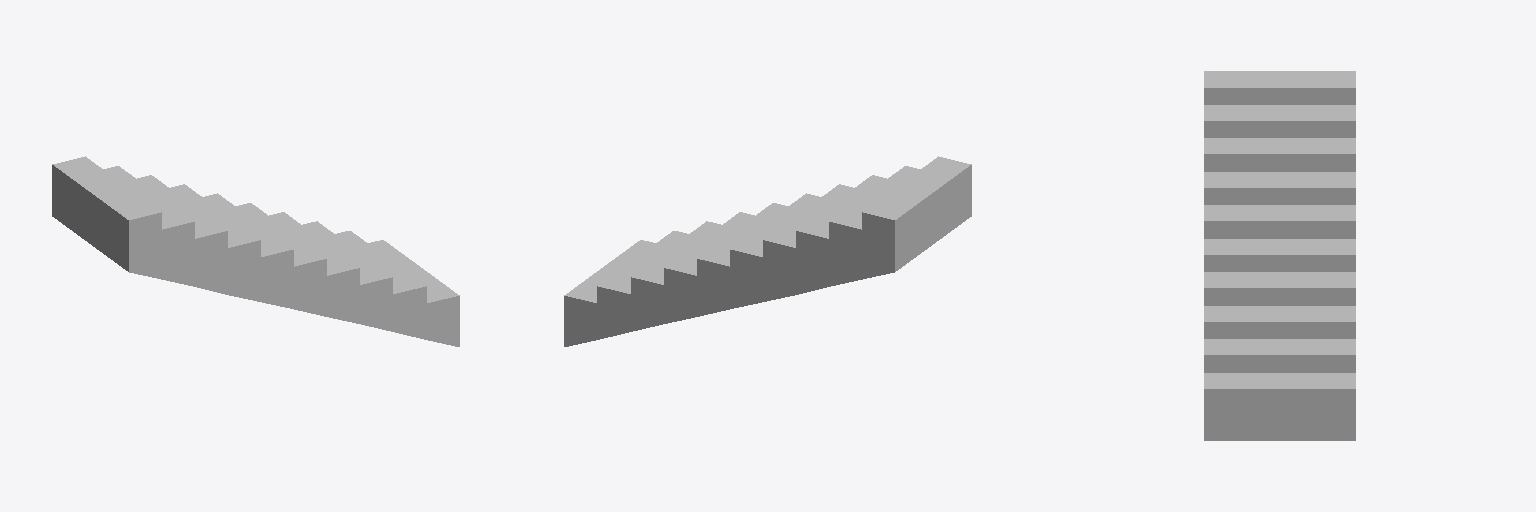
File: Stairs (69).obj
3 views of the same model, side by side, from view 1: azimuth 30°, elevation 25°; view 2: azimuth 150°, elevation 25°; view 3: azimuth 270°, elevation 25° (orthographic).
Visible parts, largest first — view 1: Stairs (69); view 2: Stairs (69); view 3: Stairs (69).
Boxes of the visible parts, x1=… form: Stairs (69): x1=52, y1=156, x2=459, y2=346; Stairs (69): x1=564, y1=156, x2=971, y2=346; Stairs (69): x1=1204, y1=71, x2=1355, y2=440.
Bounding box in the file's own units: 5 × 3 × 2.